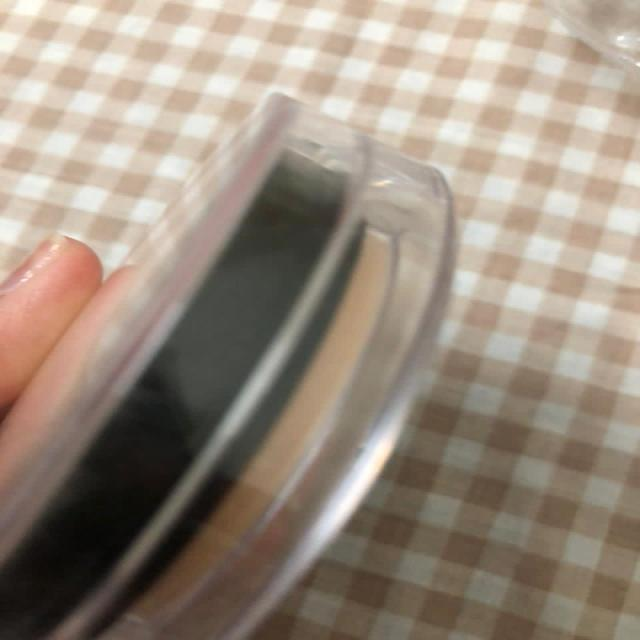blush: (6, 100, 490, 640)
